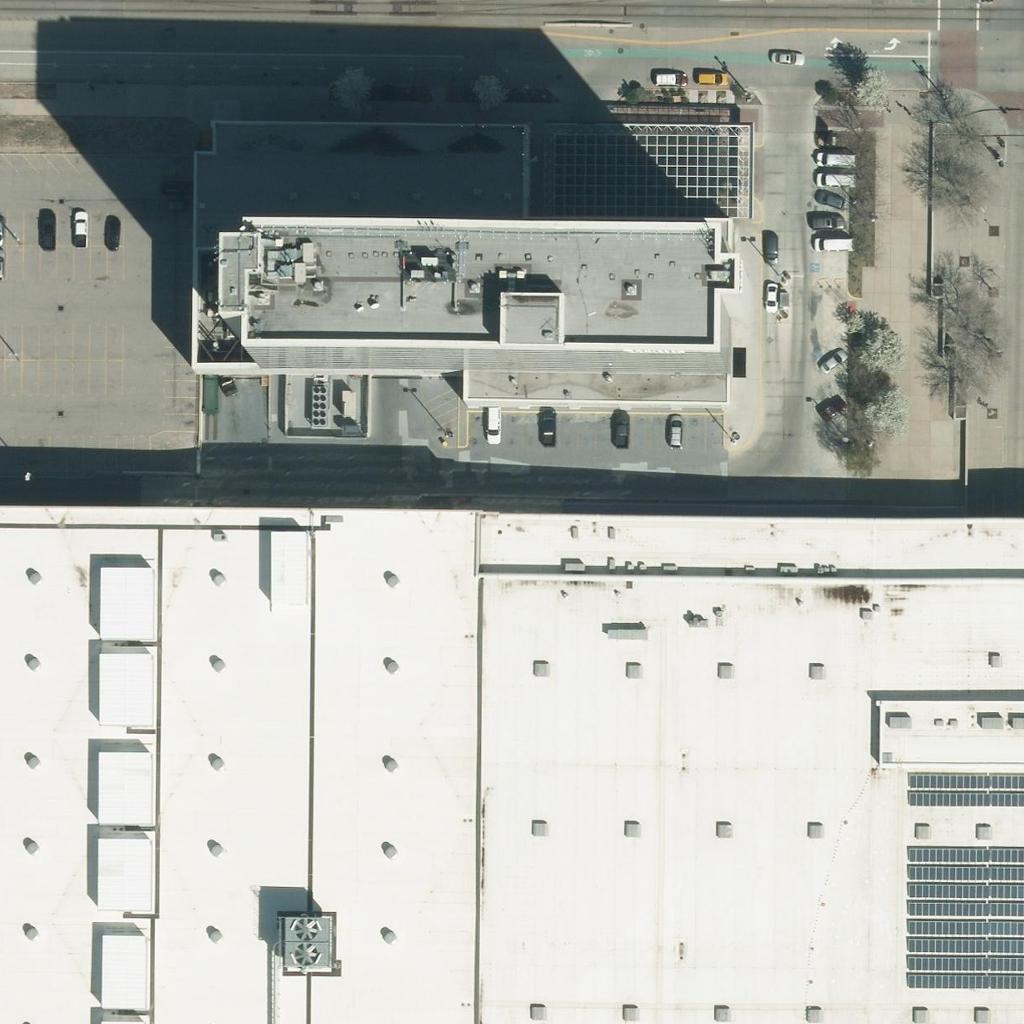car: (767, 39, 801, 73), (653, 60, 687, 94), (694, 61, 728, 95), (812, 142, 846, 176), (810, 162, 844, 196), (812, 182, 846, 216), (807, 204, 841, 238), (62, 207, 96, 241), (31, 208, 65, 242), (96, 215, 130, 249), (811, 225, 845, 259), (751, 229, 785, 263), (752, 279, 786, 313), (814, 341, 848, 375), (814, 392, 848, 426), (475, 406, 509, 440), (528, 406, 562, 440), (605, 409, 639, 443), (659, 410, 693, 444)
